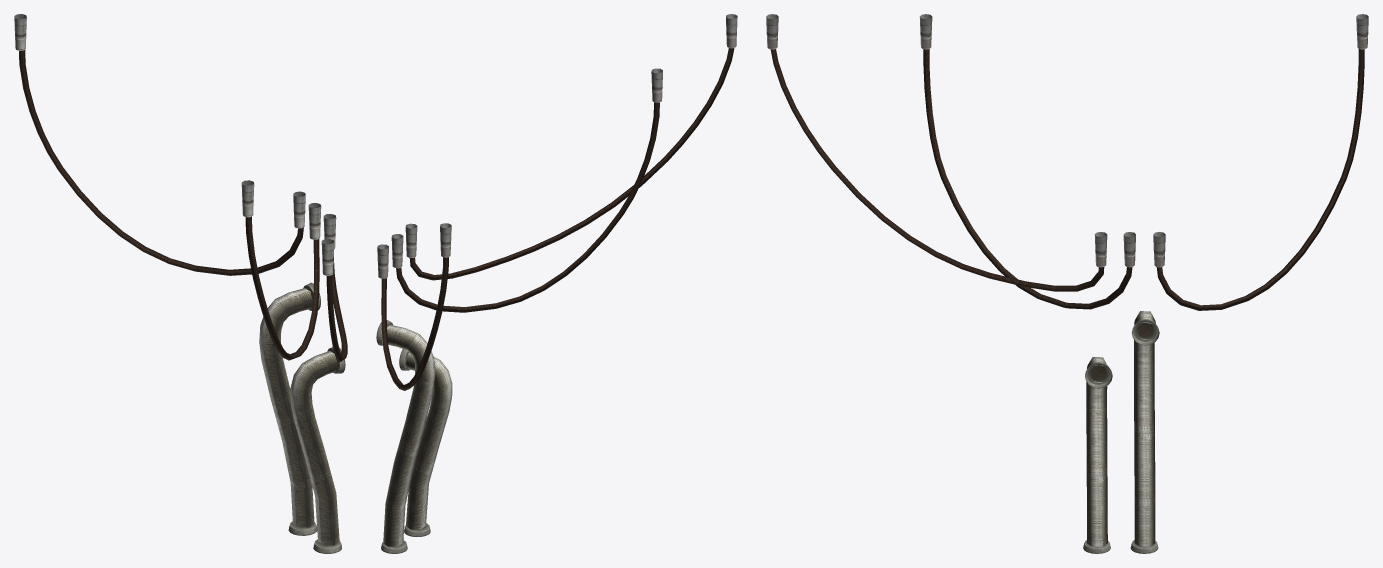
The model's file is EQP_PIPES007.FBX.
3 renders of one model, left to right at view 1: azimuth 30°, elevation 25°; view 2: azimuth 150°, elevation 25°; view 3: azimuth 270°, elevation 25°, orthographic. The views are drawn at different scales.
Visible parts, largest first — view 1: PIPES007; view 2: PIPES007; view 3: PIPES007.
Boxes of the visible parts, x1,y1,x2,y2 form: PIPES007: (14, 14, 347, 553); PIPES007: (376, 14, 737, 553); PIPES007: (766, 14, 1368, 553).
Size of the model in its own units: 130 by 313 by 378.
Materials: 1 (1 with a texture image).
